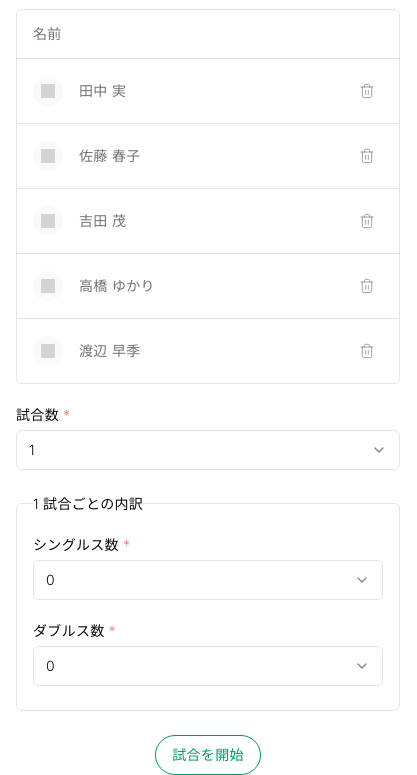
it: GameForm › if the number of participants is not enough to play the game › should show the correct error message
(page scrolled)
Click the dropdown named "ダブルス数": (50, 665) [33,646,383,686]
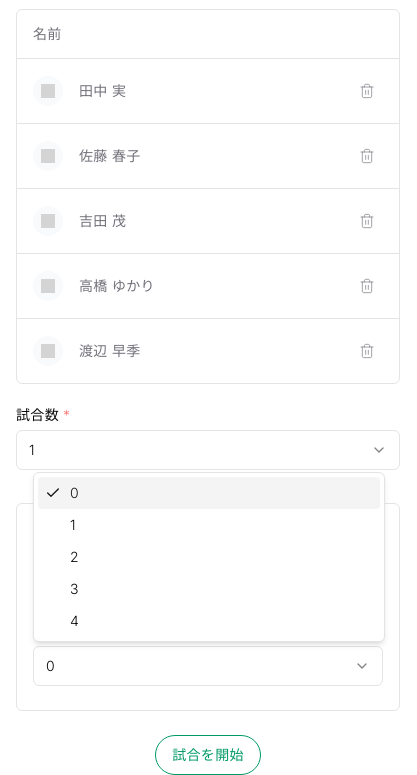
Click the option "2": (74, 556) [70,548,79,565]
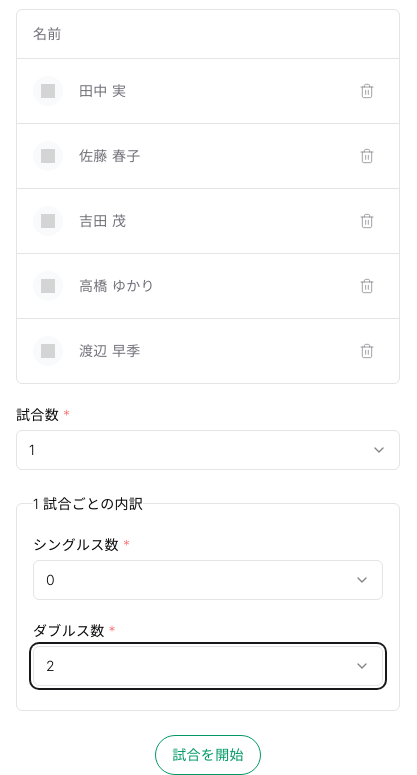
Check: the text "参加者が足りません。" is not shown
Click the button "試合を開始": (208, 754) [155,734,261,774]
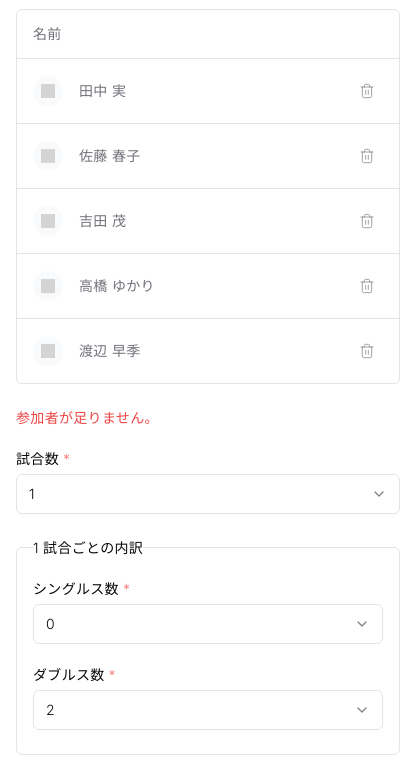
Check: the text "参加者が足りません。" is shown, box [16,408,159,426]
